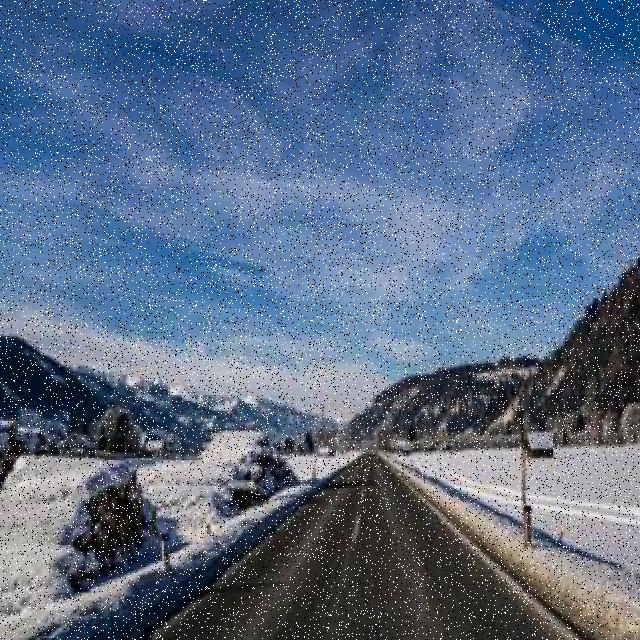clear-road: (155, 456, 580, 640)
